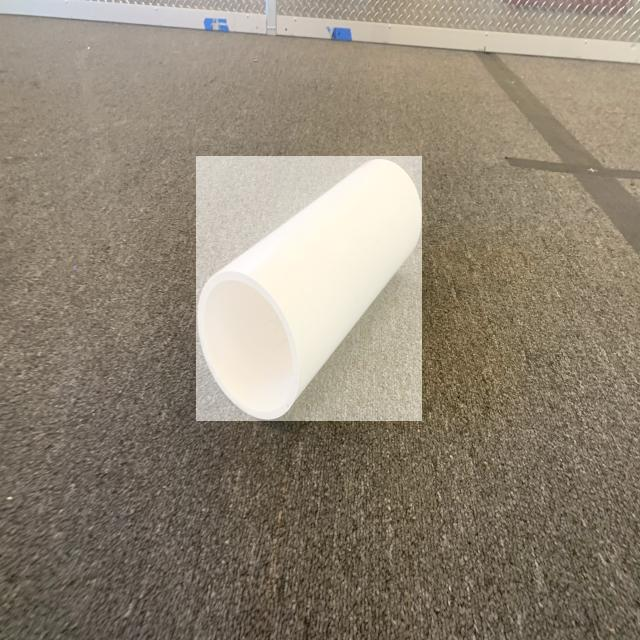Coral: (196, 156, 422, 421)
